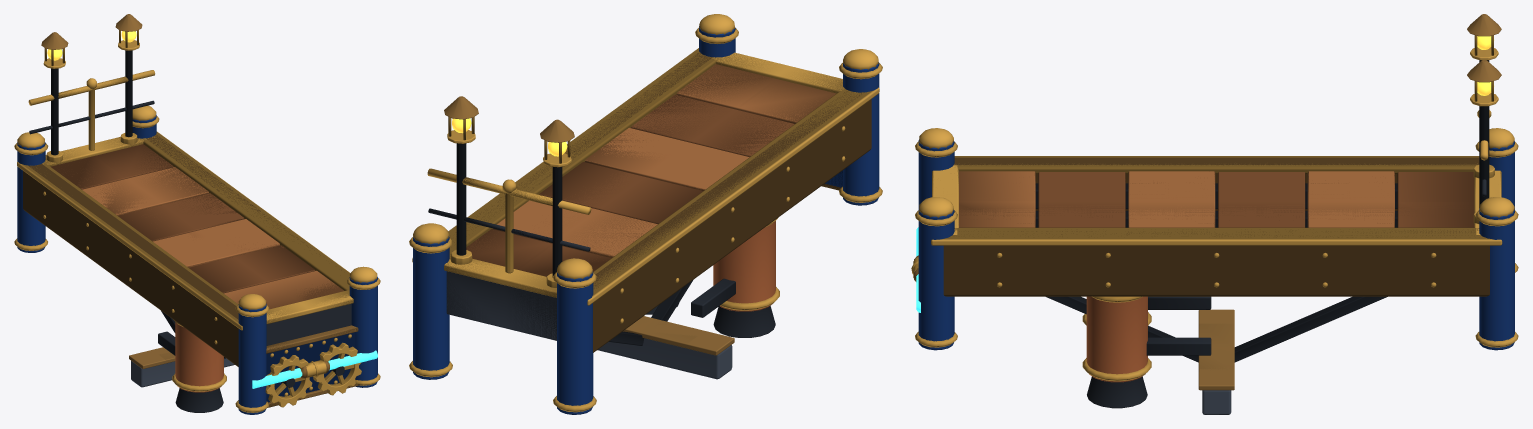
The model's file is platform.glb.
3 views of the same model, side by side, from view 1: azimuth 30°, elevation 25°; view 2: azimuth 150°, elevation 25°; view 3: azimuth 270°, elevation 25° (orthographic). The views are drawn at different scales.
Parts seen in each view (by area): view 1: CapL, CapR, DeckMid; view 2: CapL, CapR, DeckMid; view 3: CapR, DeckMid, CapL.
Part boxes in pixels (<box>): CapL: <box>14,32,316,414</box>; CapR: <box>87,14,380,396</box>; DeckMid: <box>28,70,377,404</box>; CapL: <box>502,49,882,414</box>; CapR: <box>409,14,787,379</box>; DeckMid: <box>427,52,855,379</box>; CapR: <box>913,60,1518,408</box>; DeckMid: <box>911,110,1501,414</box>; CapL: <box>913,14,1518,347</box>.
Size of the model in its own units: 1.14 by 2.07 by 3.36.
